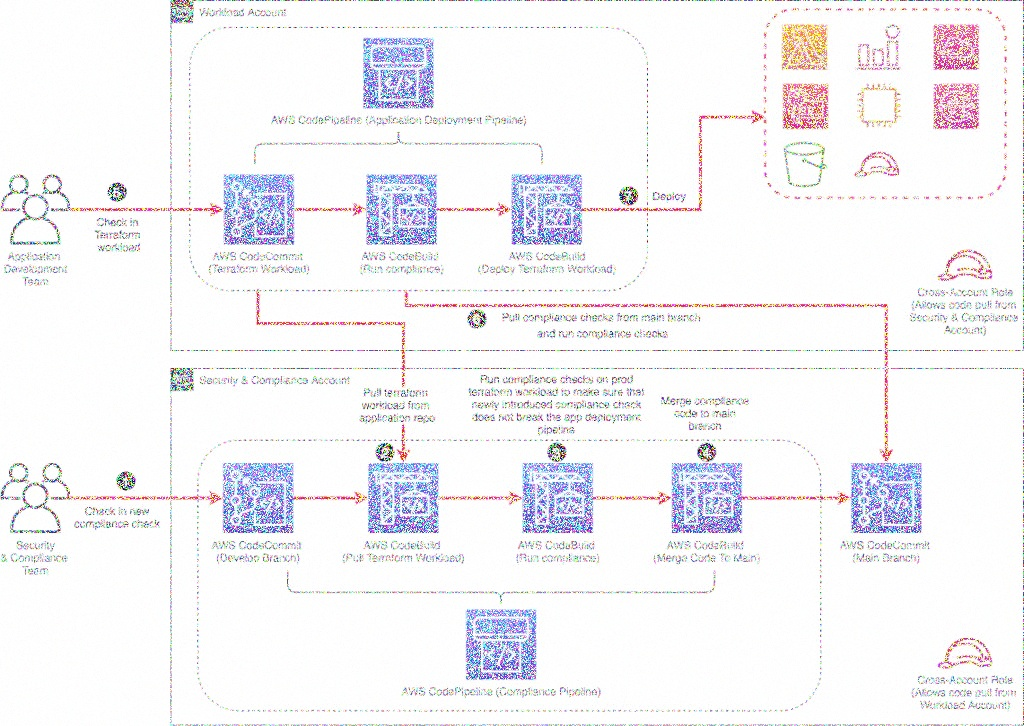Cloud Trail: (929, 20, 982, 72)
CloudWatch Alarm: (853, 17, 904, 76)
CodeBuild: (508, 168, 585, 247), (366, 457, 442, 537), (365, 170, 439, 249), (519, 457, 594, 534), (669, 460, 745, 535)
CodeCommit: (221, 168, 298, 248), (849, 457, 925, 537), (219, 461, 297, 536)
CodePipeline: (462, 604, 542, 686), (359, 34, 440, 113)
EC2: (848, 80, 909, 133)
IAM Role: (932, 620, 1006, 674), (931, 237, 997, 287), (853, 145, 904, 187)
Key Management Service: (779, 81, 834, 133)
Lambda: (776, 17, 835, 77)
S3: (779, 135, 834, 195)
SNS: (930, 80, 982, 131)
Users: (0, 162, 72, 249), (1, 457, 75, 540)
